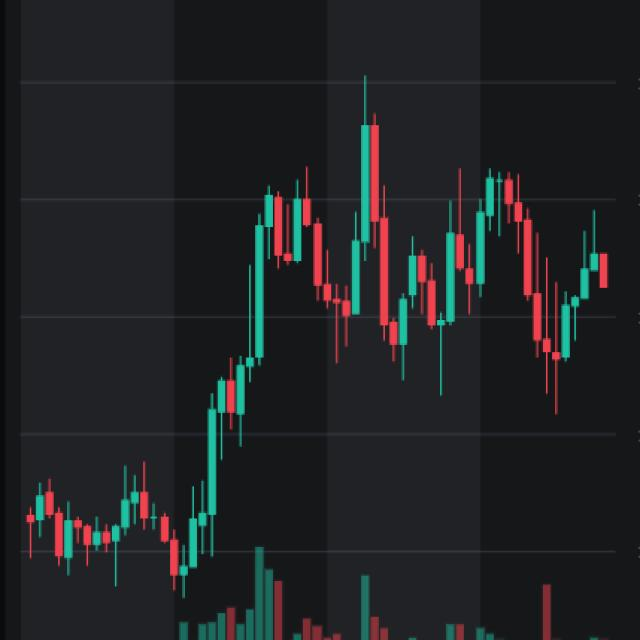Resistance-breakout: (28, 177, 282, 581)
